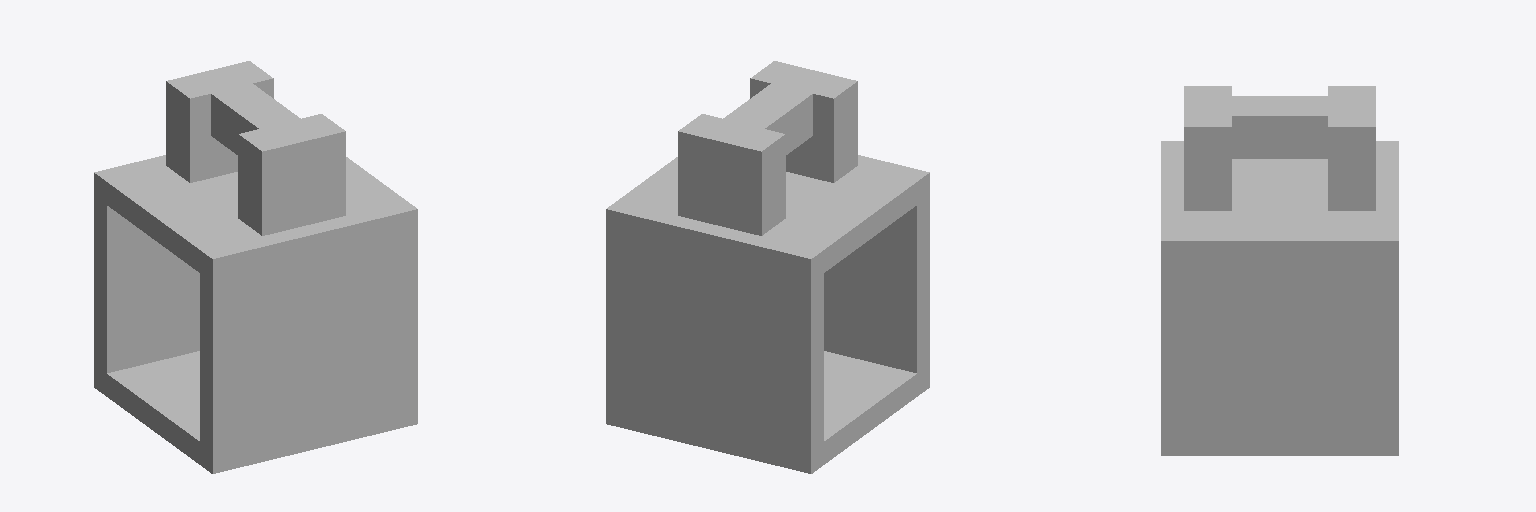
File: Lantern.obj
3 views of the same model, side by side, from view 1: azimuth 30°, elevation 25°; view 2: azimuth 150°, elevation 25°; view 3: azimuth 270°, elevation 25° (orthographic).
Visible parts, largest first — view 1: Cube; view 2: Cube; view 3: Cube.
Boxes of the visible parts, x1,y1,x2,y2 form: Cube: [94, 61, 417, 473]; Cube: [606, 61, 929, 473]; Cube: [1161, 86, 1398, 455].
Bounding box in the file's own units: 2 × 2.79 × 2.